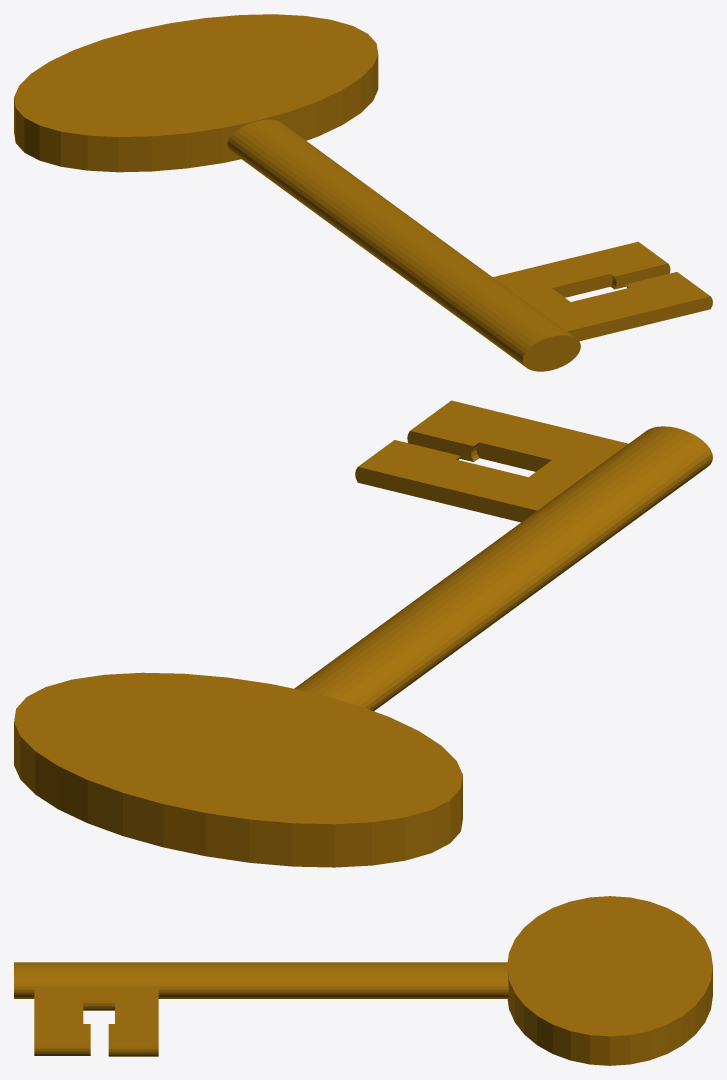
The model's file is key.obj.
The picture shows the model from 3 angles, top to bottom: view 1: azimuth 30°, elevation 25°; view 2: azimuth 150°, elevation 25°; view 3: azimuth 270°, elevation 25°; orthographic projection. The views are drawn at different scales.
Parts seen in each view (by area): view 1: Cylinder, Cylinder.001; view 2: Cylinder, Cylinder.001; view 3: Cylinder, Cylinder.001.
Part boxes in pixels (box(x1,y1,x2,y2)): Cylinder: box(14, 14, 378, 172); Cylinder.001: box(227, 119, 712, 371); Cylinder: box(14, 672, 462, 867); Cylinder.001: box(294, 400, 712, 711); Cylinder: box(507, 896, 712, 1065); Cylinder.001: box(14, 962, 508, 1056).
Size of the model in its own units: 20.64 by 2 by 43.05.
